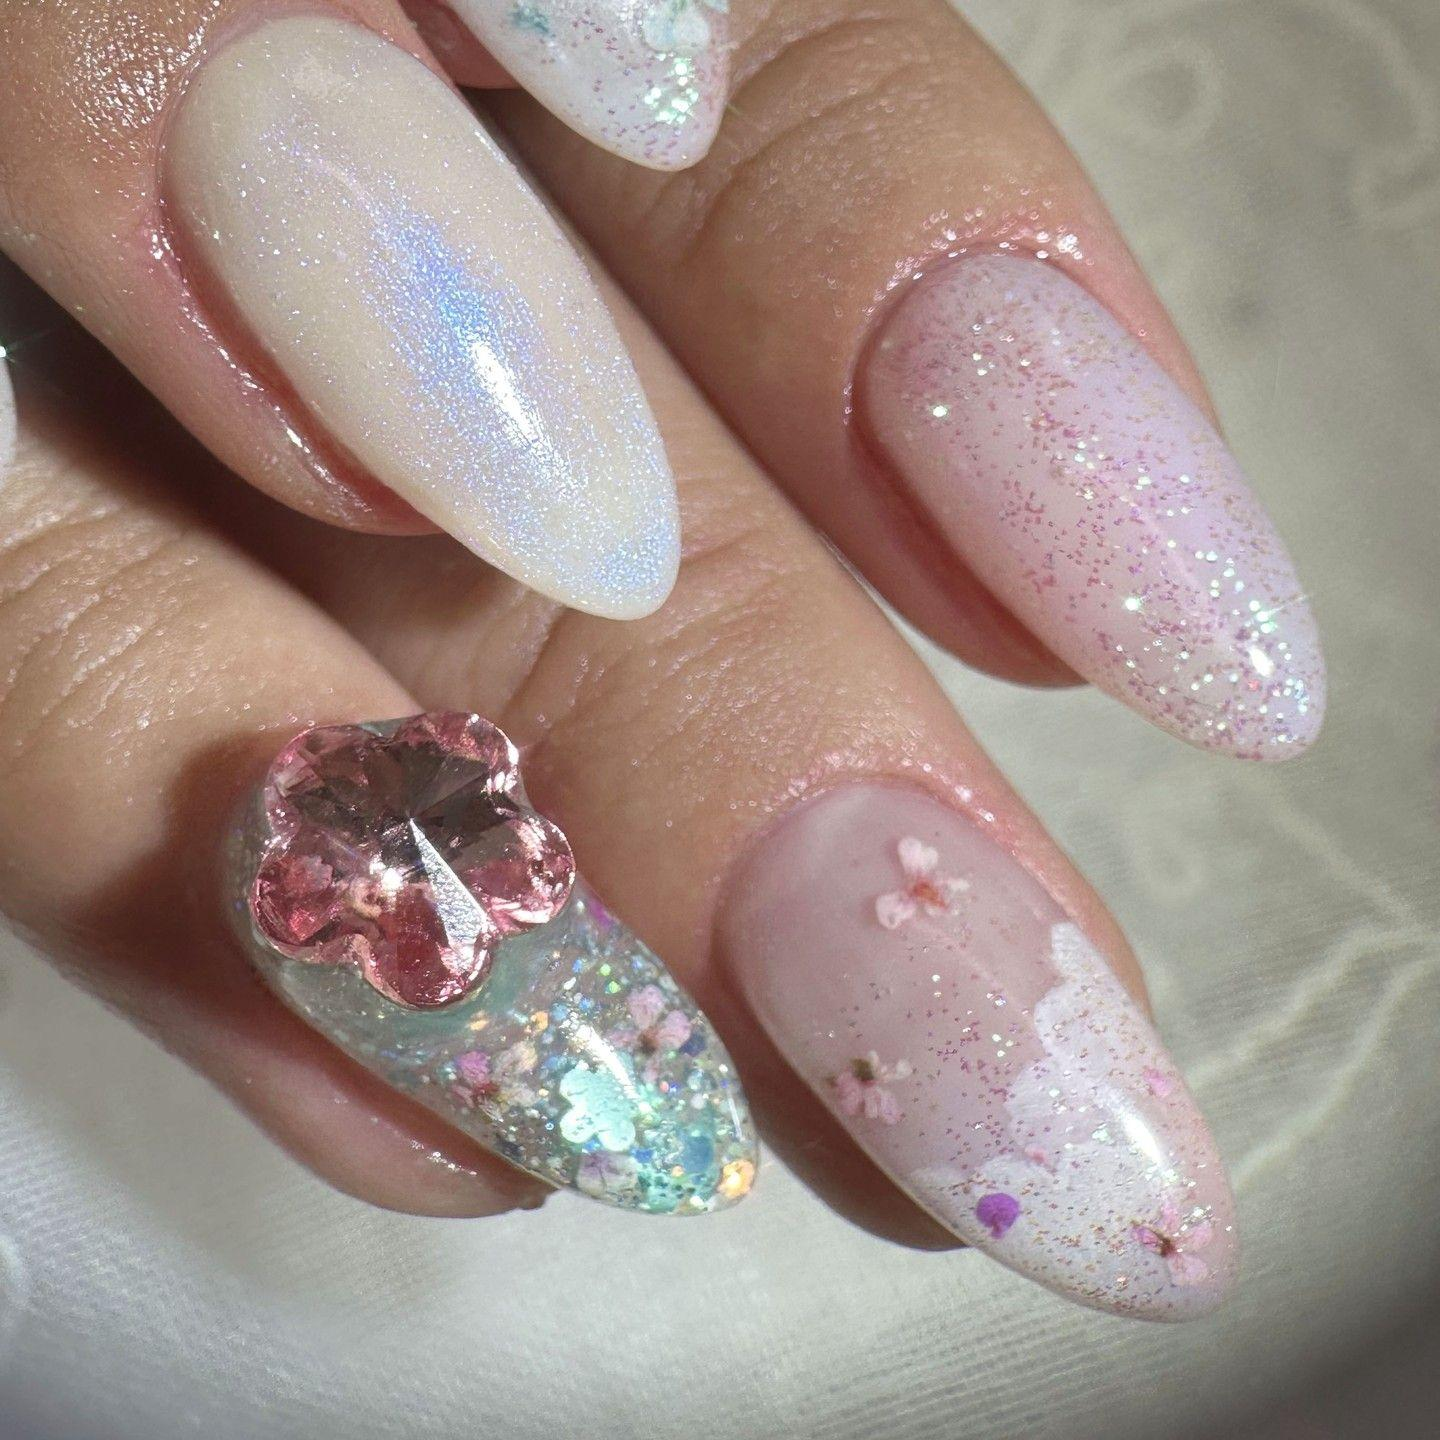nail: (153, 4, 684, 622), (710, 772, 1241, 1324), (221, 706, 760, 1218), (847, 239, 1328, 764), (422, 0, 736, 172)
